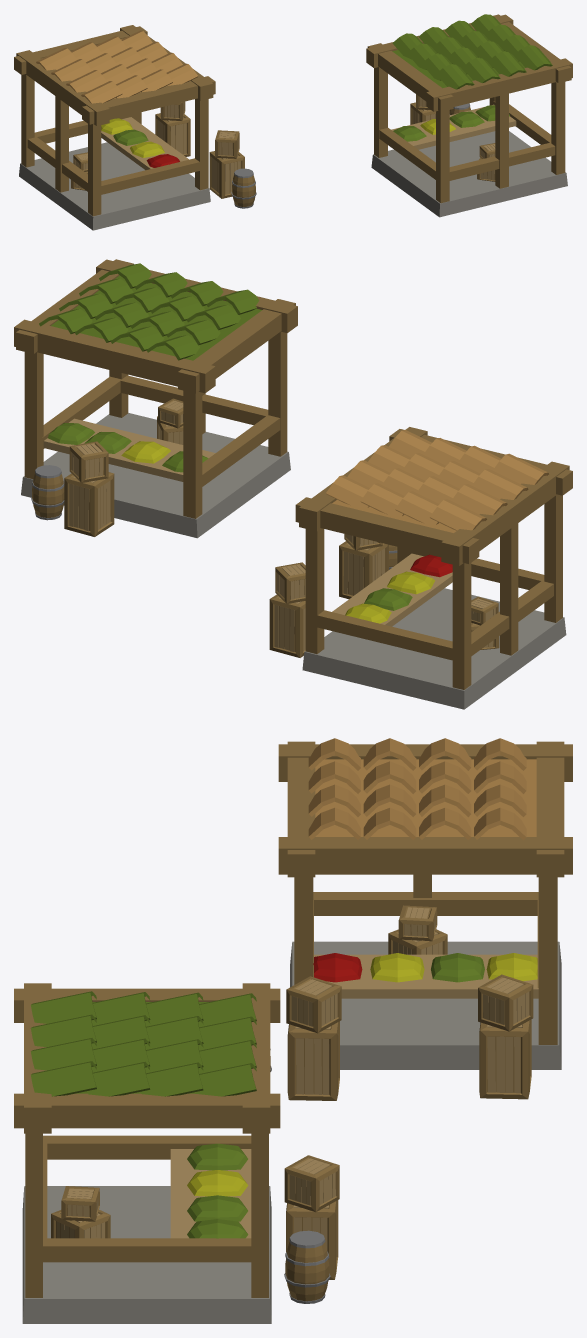
Rendered from puestos.glb.
3 renders of one model, top to bottom at view 1: azimuth 30°, elevation 25°; view 2: azimuth 150°, elevation 25°; view 3: azimuth 270°, elevation 25°, orthographic. The views are drawn at different scales.
Parts seen in each view (by area): view 1: Market_SecondAge_Level1; view 2: Market_SecondAge_Level1; view 3: Market_SecondAge_Level1.
Boxes of the visible parts, x1,y1,x2,y2 form: Market_SecondAge_Level1: (14,14,572,230); Market_SecondAge_Level1: (14,259,572,709); Market_SecondAge_Level1: (14,738,572,1323).
Size of the model in its own units: 1.92 by 0.5921 by 1.23.
1 material, 1 textured.
